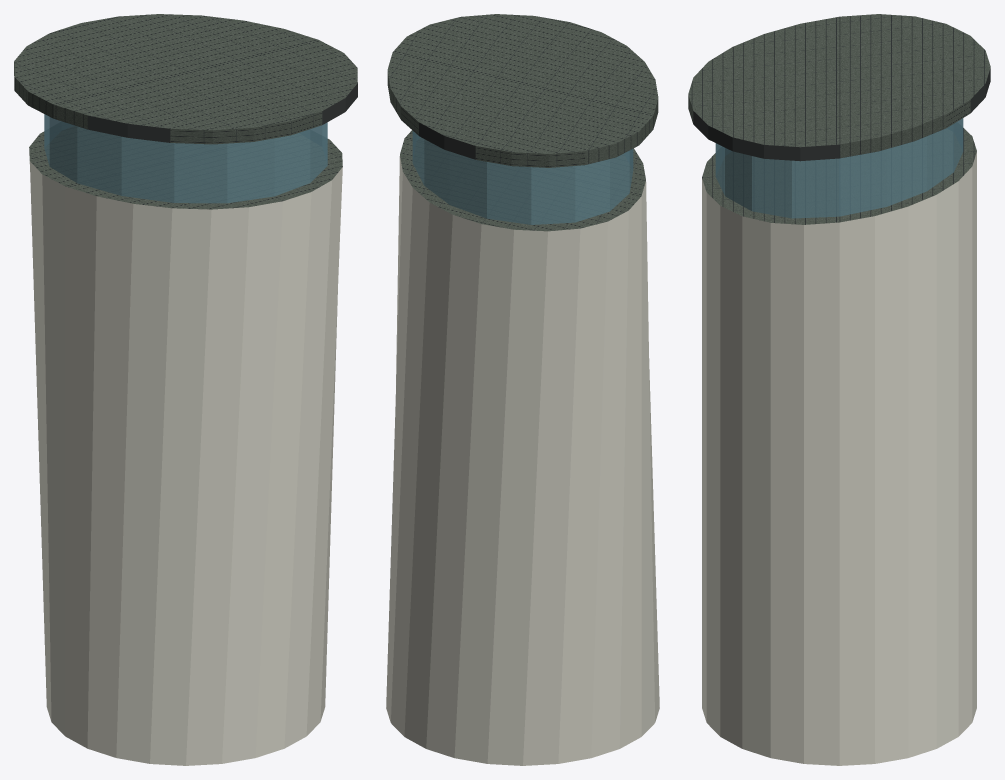
File: damaged2.gltf
The picture shows the model from 3 angles, left to right: view 1: azimuth 30°, elevation 25°; view 2: azimuth 150°, elevation 25°; view 3: azimuth 270°, elevation 25°; orthographic projection.
Visible parts, largest first — view 1: britainlighthouse_damaged2; view 2: britainlighthouse_damaged2; view 3: britainlighthouse_damaged2.
Part boxes in pixels (x1,y1,x2,y2): britainlighthouse_damaged2: (14,14,357,765); britainlighthouse_damaged2: (386,14,659,765); britainlighthouse_damaged2: (688,14,990,765).
Bounding box in the file's own units: 11.46 × 25.16 × 11.
4 materials, 1 textured.
